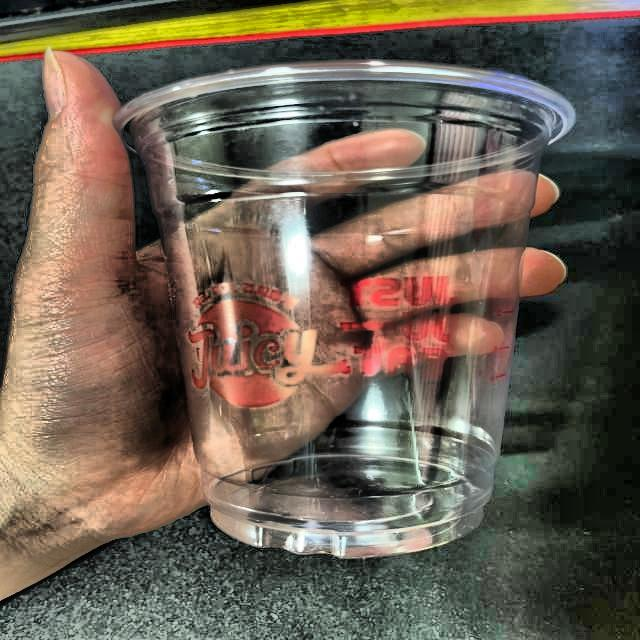plastic cup: (108, 56, 579, 562)
